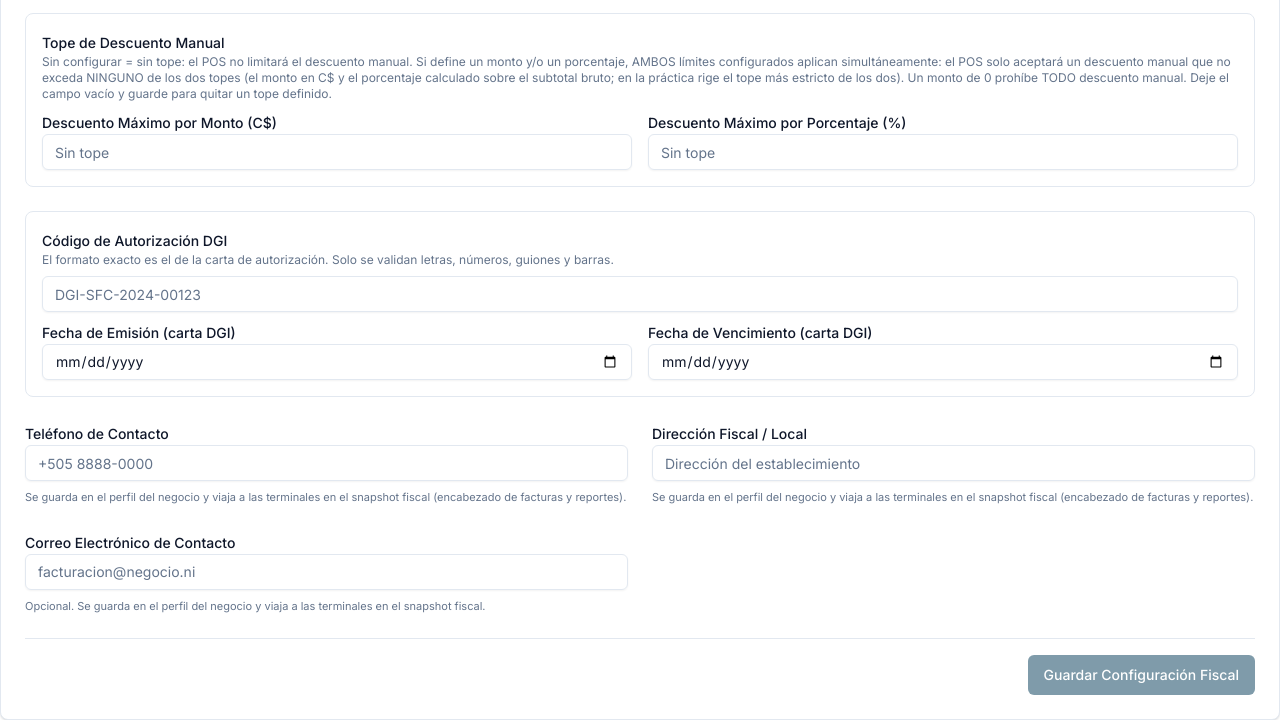
it: FiscalSetupForm — Business Profile selects (BXW-007 U2, rev 2) › FiscalSetupForm — native validation must never own operator feedback (noValidate) › shows the Spanish zod error and marks the field invalid when 150 is submitted
(page scrolled)
Type "150" into the number field labelled "Descuento Máximo por Porcentaje (%)".
click(943, 152); type("150")  # box [648, 134, 1238, 170]
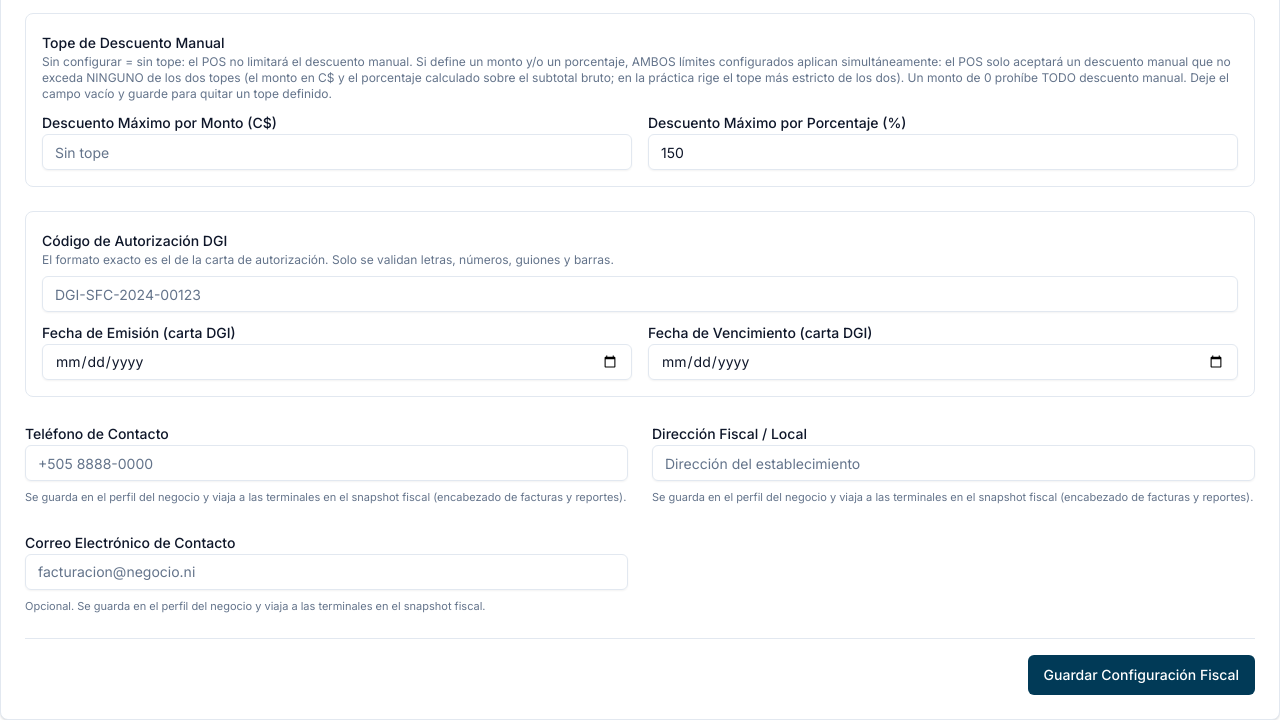
Click the button with test id "save-fiscal-setup-button".
click(1141, 675)  # box [1028, 655, 1255, 695]
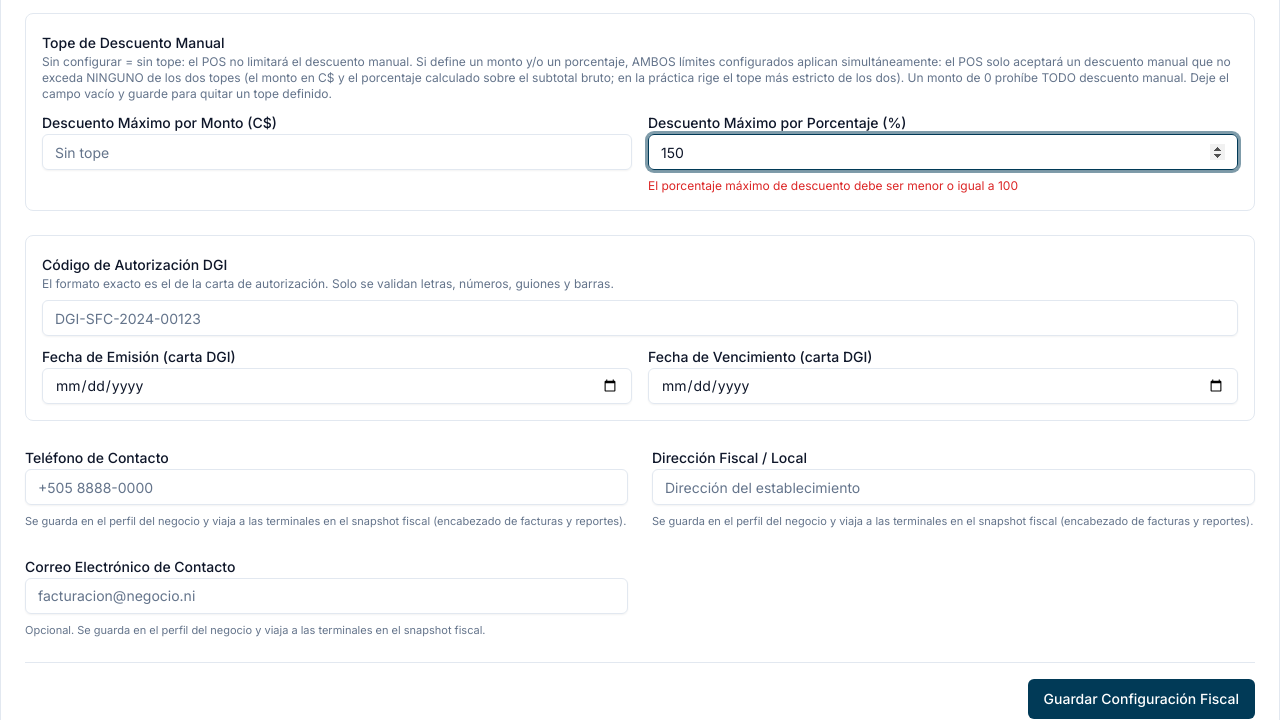
Expected: the text "El porcentaje máximo de descuento debe ser menor o igual a 100" is shown, [648, 178, 1018, 193]
